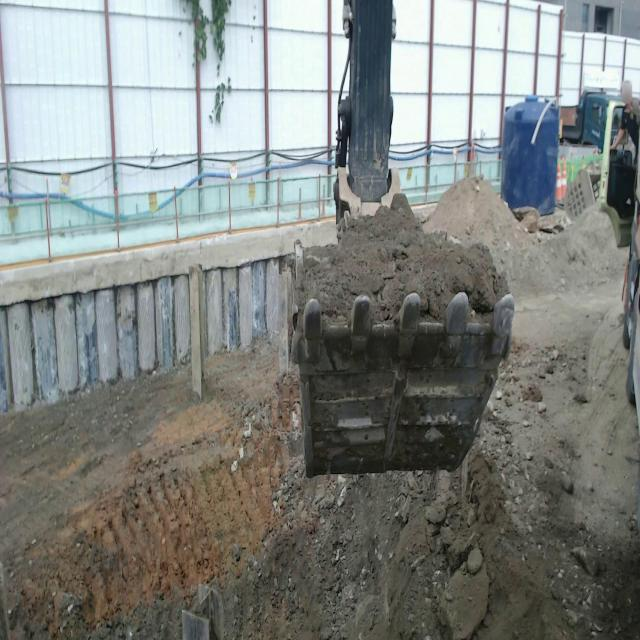red-sand: (0, 341, 541, 639), (294, 194, 510, 323)
